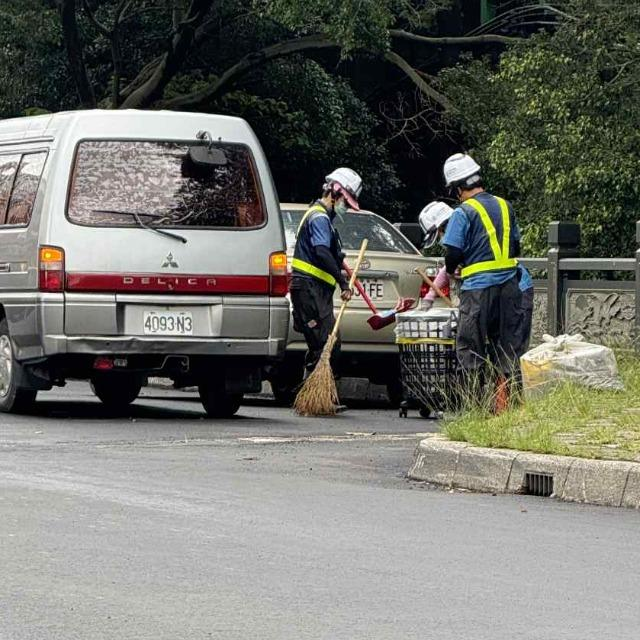Vest: (450, 193, 526, 287)
